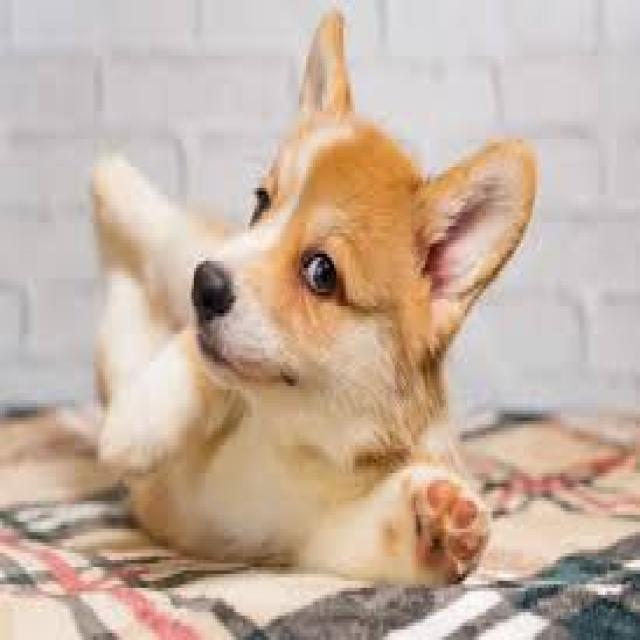CORGI: (78, 18, 542, 593)
